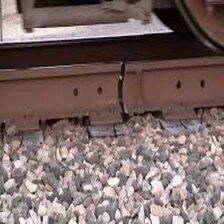railway-gap: (80, 51, 160, 132)
